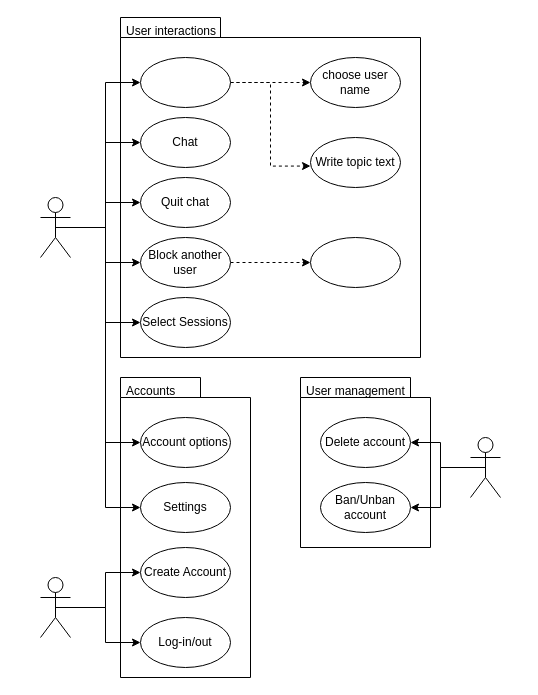
Image size: 538x695. Some labels were removed from this diagram. Here are the shapes that lost their labels. From the top down, the centre of each, then its label:
At [185,82]: "Start chat".
At [55,227]: "User (logged in)".
At [355,262]: "Report another user".
At [485,467]: "Administrator".
At [55,607]: "User (not logged in)".
